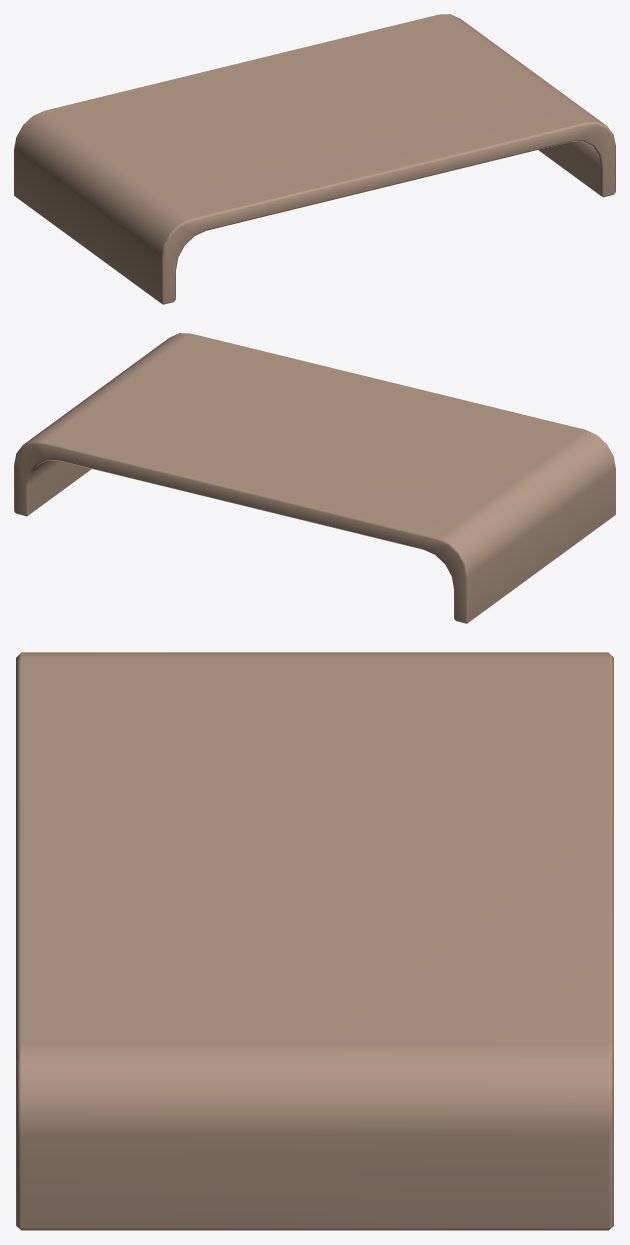
File: Stand_1.glb
The picture shows the model from 3 angles, top to bottom: view 1: azimuth 30°, elevation 25°; view 2: azimuth 150°, elevation 25°; view 3: azimuth 270°, elevation 25°; orthographic projection. The views are drawn at different scales.
Visible parts, largest first — view 1: Stand_1; view 2: Stand_1; view 3: Stand_1.
Boxes of the visible parts, bbox=[...] form: Stand_1: bbox=[14, 14, 615, 304]; Stand_1: bbox=[14, 333, 615, 623]; Stand_1: bbox=[16, 652, 613, 1230].
Size of the model in its own units: 0.8495 by 0.1423 by 0.4829.
1 material, 1 textured.
